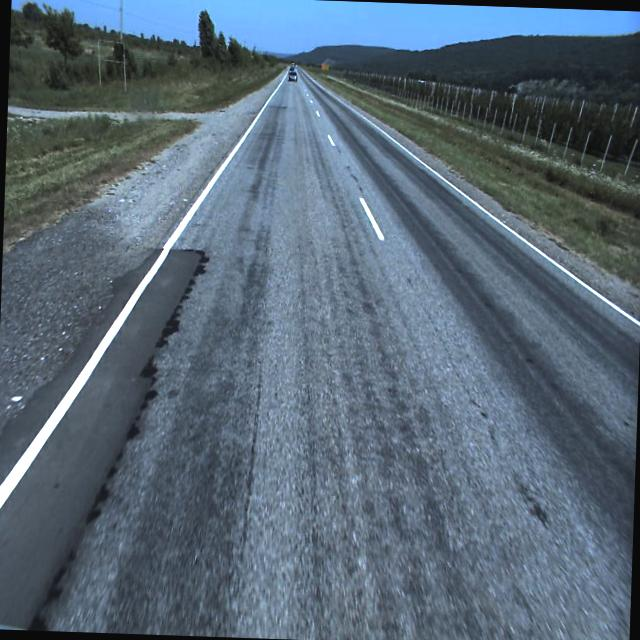road: (0, 67, 640, 640)
